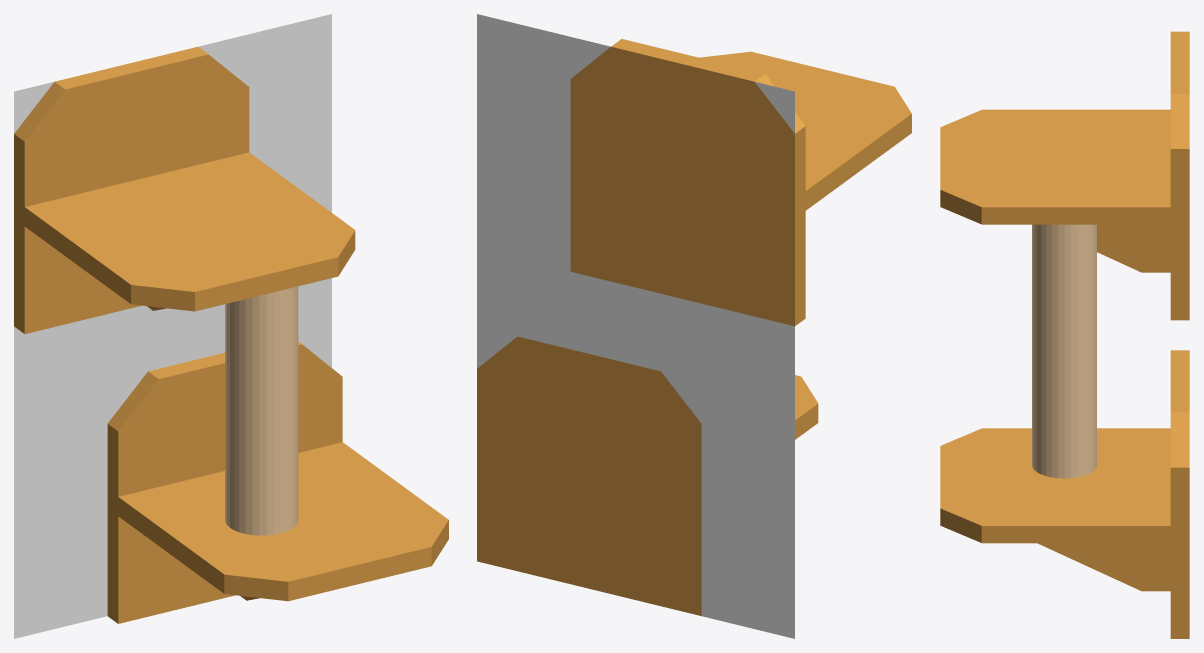
The model's file is wall-two-step-ladder.glb.
3 views of the same model, side by side, from view 1: azimuth 30°, elevation 25°; view 2: azimuth 150°, elevation 25°; view 3: azimuth 270°, elevation 25° (orthographic). The views are drawn at different scales.
Parts seen in each view (by area): view 1: 两层小爬梯, 平面, 平面.001, 平面.003, 平面.004, 柱体; view 2: 两层小爬梯, 平面.001, 平面.004, 平面, 平面.003; view 3: 平面, 平面.003, 柱体, 平面.001, 平面.004, 平面.005, 平面.002.
Part boxes in pixels (x1,y1,x2,y2): 两层小爬梯: [14, 14, 331, 638]; 平面: [24, 152, 355, 311]; 平面.001: [14, 46, 249, 333]; 平面.003: [118, 442, 448, 601]; 平面.004: [107, 341, 342, 623]; 柱体: [225, 286, 298, 535]; 两层小爬梯: [477, 14, 794, 638]; 平面.001: [570, 39, 805, 326]; 平面.004: [477, 336, 701, 615]; 平面: [700, 51, 911, 210]; 平面.003: [795, 375, 818, 439]; 平面: [940, 109, 1170, 224]; 平面.003: [940, 428, 1170, 543]; 柱体: [1032, 224, 1096, 478]; 平面.001: [1170, 31, 1189, 320]; 平面.004: [1170, 350, 1189, 638]; 平面.005: [1038, 543, 1170, 591]; 平面.002: [1097, 224, 1170, 272].
Bounding box in the file's own units: 0.2833 × 0.4662 × 0.2166.
